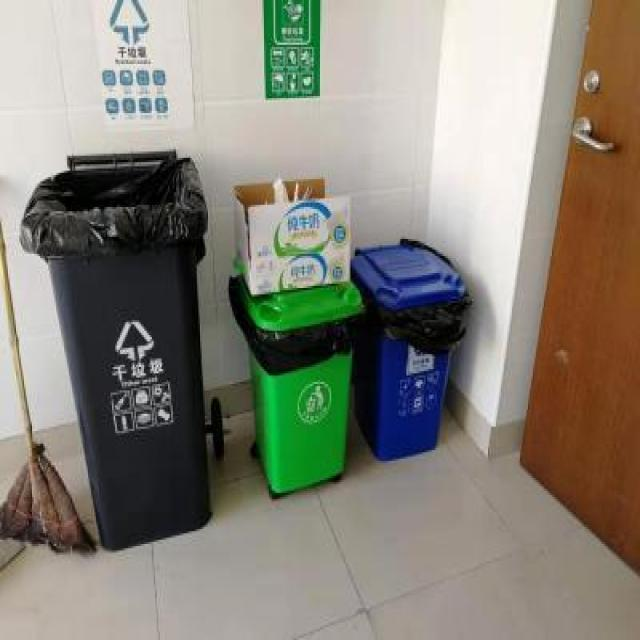ash bin: (21, 149, 211, 546), (229, 269, 363, 493), (347, 239, 466, 461)
